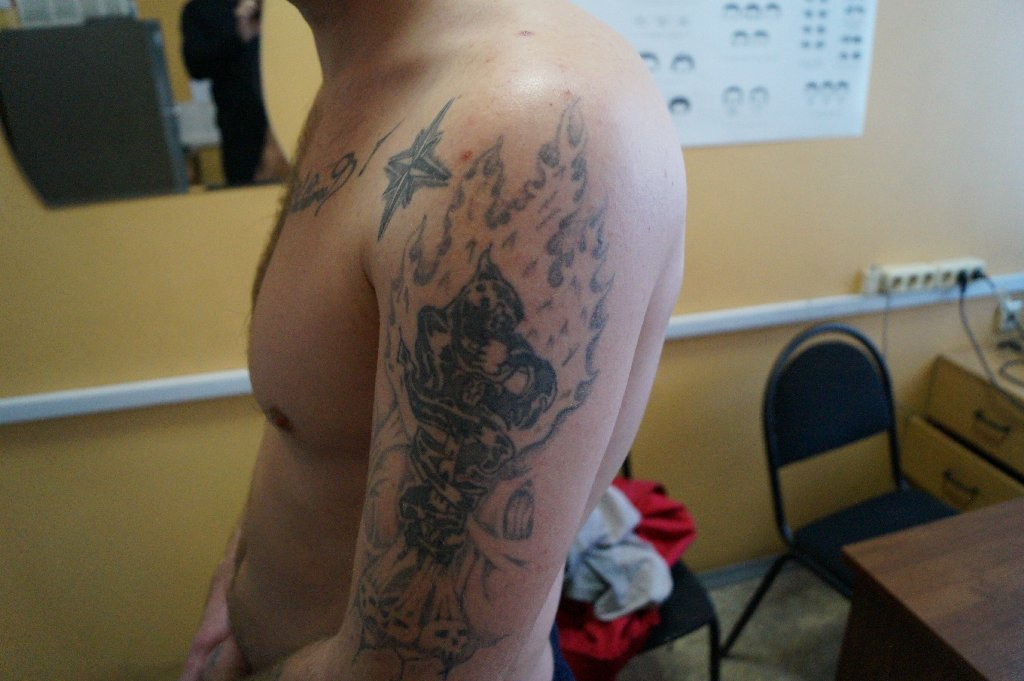tatu7_zmeya: (406, 246, 523, 632)
tatu9_krest: (375, 109, 461, 232)
